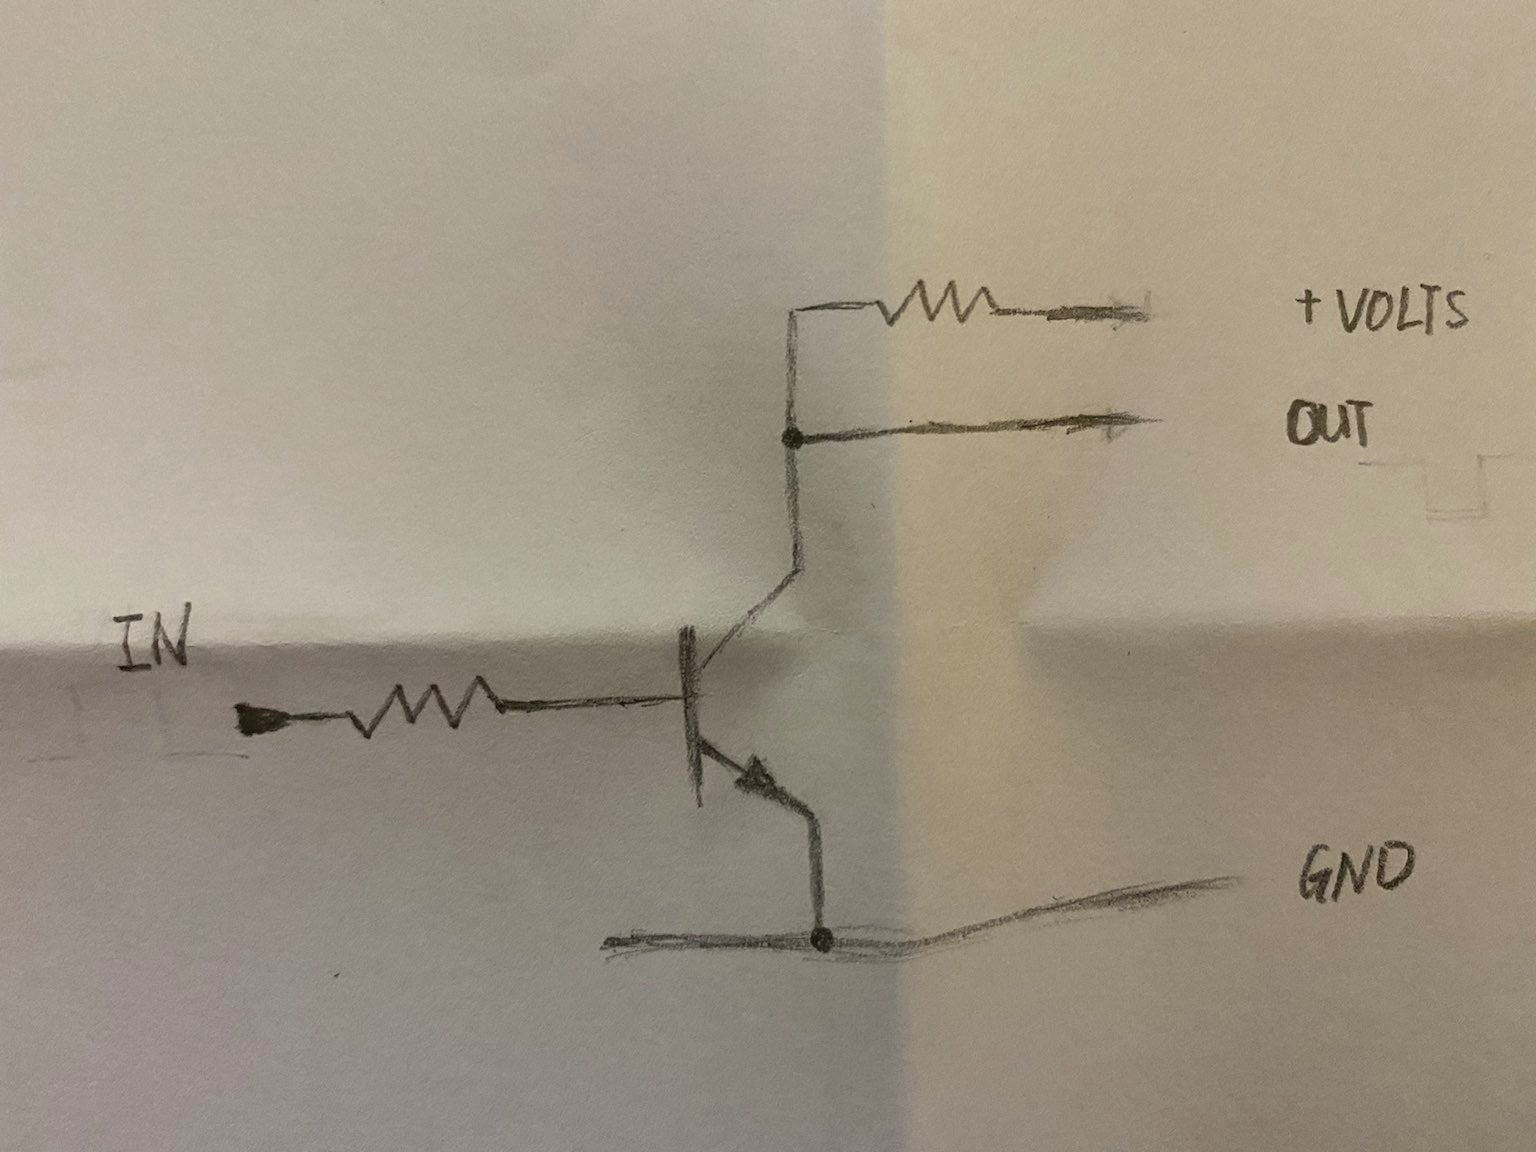junction: (778, 899, 871, 980), (762, 407, 819, 463), (783, 300, 804, 321)
resistor: (854, 263, 1027, 345), (341, 672, 516, 749)
terminal: (224, 691, 304, 745), (1111, 289, 1165, 332), (1110, 399, 1165, 438), (1205, 866, 1249, 902), (593, 928, 626, 966)
text: (1290, 826, 1424, 909), (97, 592, 208, 682), (1330, 280, 1473, 340), (1281, 388, 1382, 456), (1290, 280, 1323, 330)
transistor: (645, 542, 870, 842)
